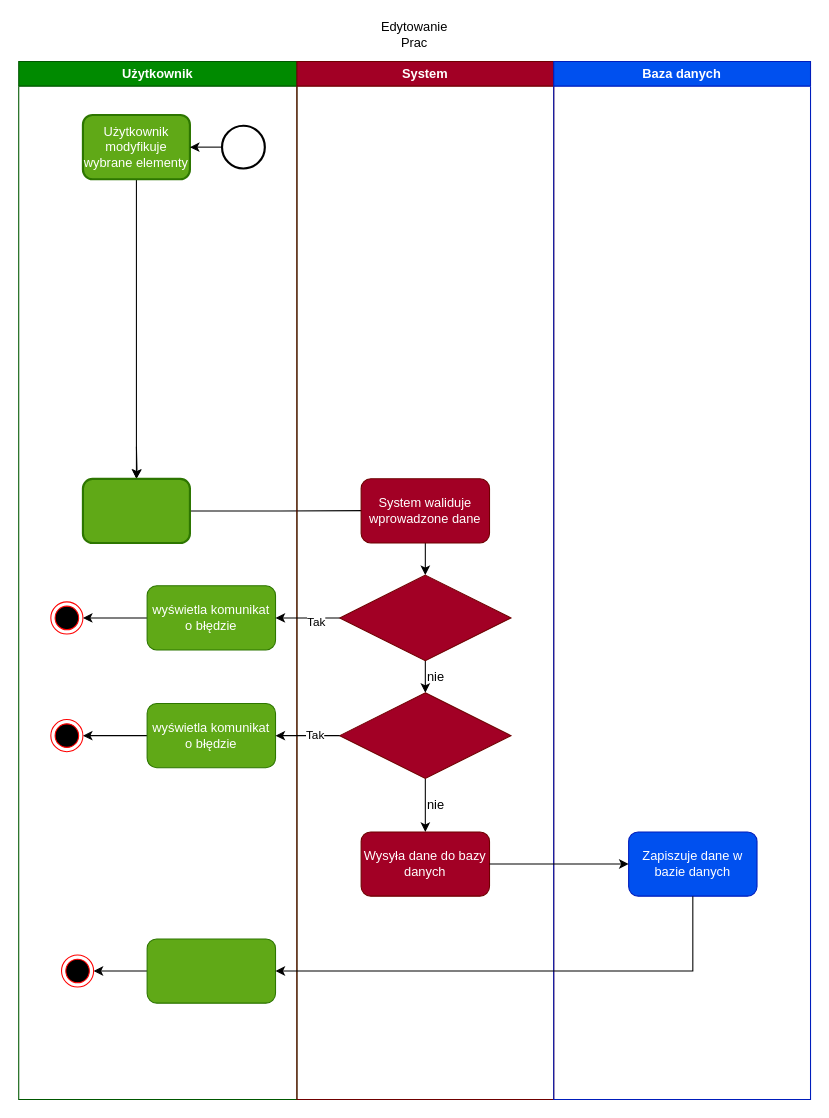
The diagram is 829 pixels wide and 1118 high, and some of its shapes have lost their labels. The centre of each missing label's shape, as x and y in pixels:
Nazwa jest puste lub nie spełnia kryteriów: point (425, 617)
Przesłane pliki graficzne nie spełniają wymogów: point (425, 735)
Użytkownik wysyła wypełniony formularz do systemu.: point (135, 510)
Wyświetla komunika o sukcesie: point (211, 970)
